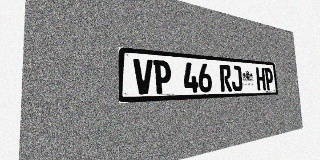4: (183, 62, 199, 93)
6: (198, 63, 212, 92)
H: (256, 67, 266, 90)
J: (231, 65, 243, 91)
P: (153, 60, 172, 94), (264, 68, 274, 90)
R: (219, 65, 232, 92)
V: (133, 58, 153, 95)
